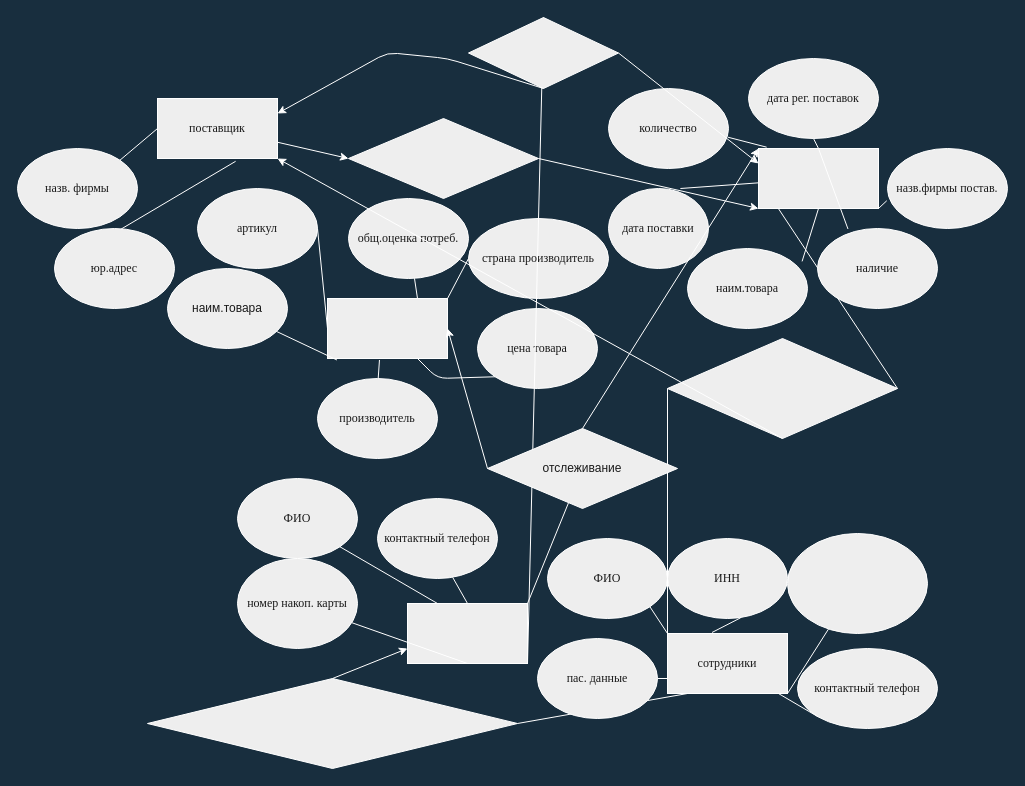
This 1025x786 diagram has some shape labels left out. The centre of each missing label's shape, as x and y in pixels:
"адп. проживания" belongs at [857,583].
"Каталог" belongs at [387,328].
"клиенты" belongs at [467,633].
"обработка информации" belongs at [543,52].
"получение и обработка информации" belongs at [782,388].
"поставляет" belongs at [443,158].
"проверка и исправление информации" belongs at [332,723].
"склад" belongs at [818,178].
